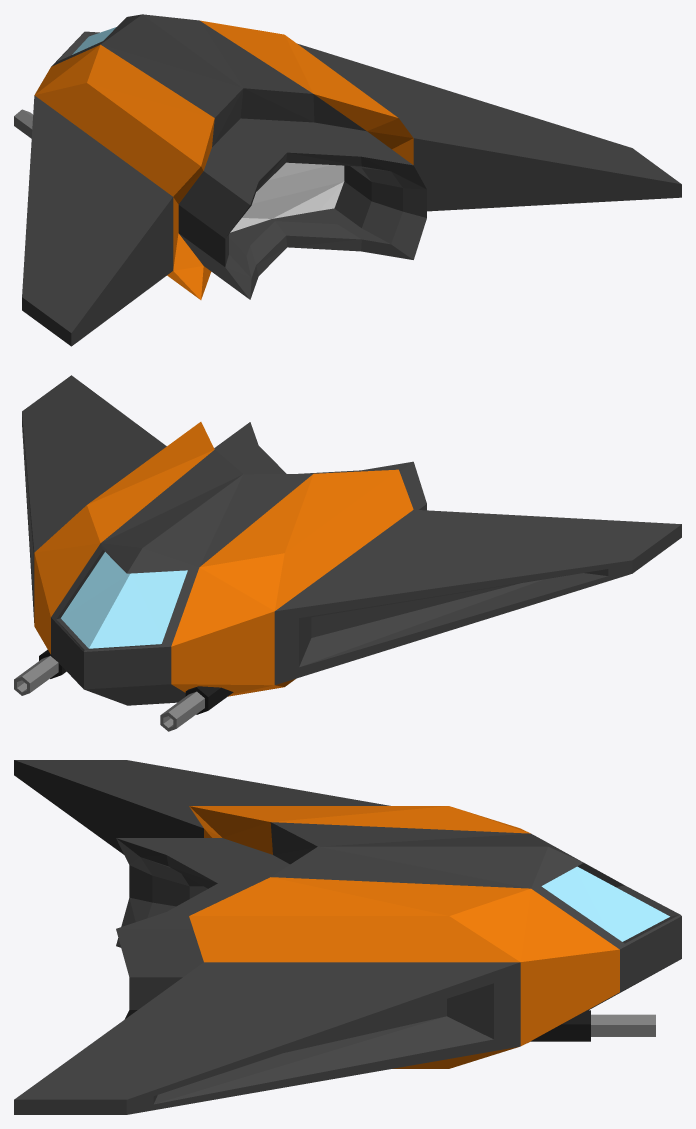
File: LPSP_SmallStarfigher.obj
3 views of the same model, one above another, from view 1: azimuth 30°, elevation 25°; view 2: azimuth 150°, elevation 25°; view 3: azimuth 270°, elevation 25° (orthographic). The views are drawn at different scales.
Visible parts, largest first — view 1: SmallFighter_Cube; view 2: SmallFighter_Cube; view 3: SmallFighter_Cube.
Boxes of the visible parts, bbox=[...] form: SmallFighter_Cube: bbox=[14, 14, 681, 346]; SmallFighter_Cube: bbox=[14, 375, 681, 731]; SmallFighter_Cube: bbox=[14, 760, 681, 1114].
Bounding box in the file's own units: 5.07 × 1.16 × 4.21.
